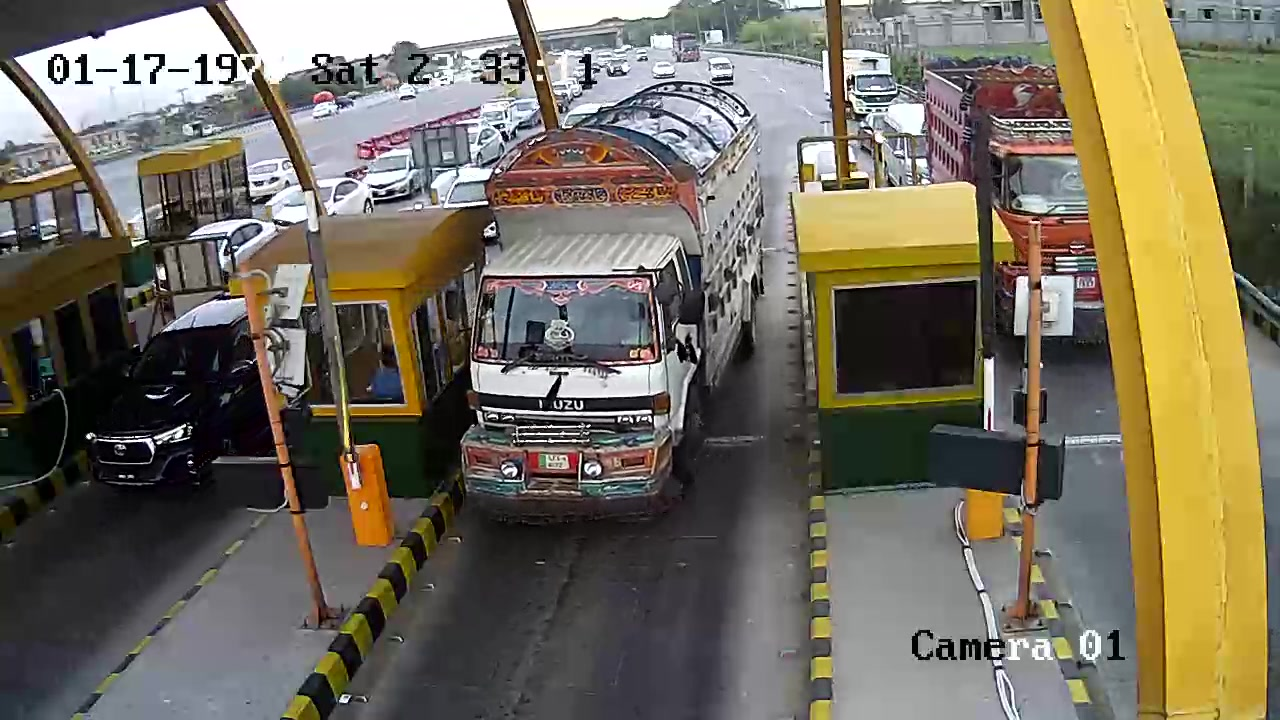F5: (462, 79, 777, 522)
